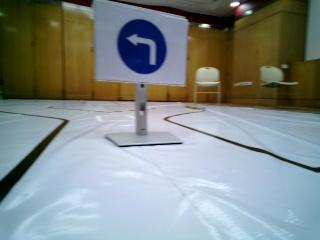left: (102, 3, 185, 87)
